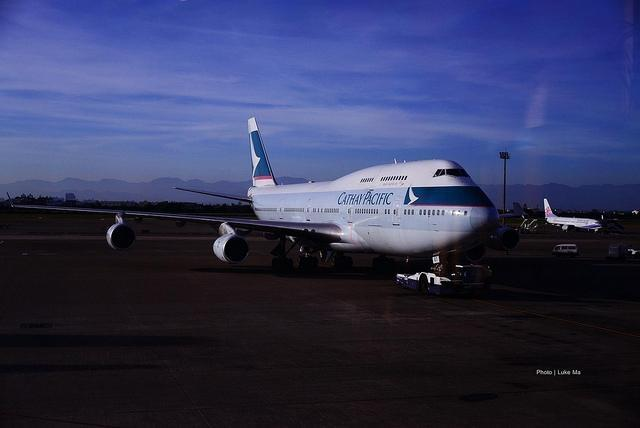bus: (396, 261, 490, 295)
truck: (552, 244, 580, 256)
